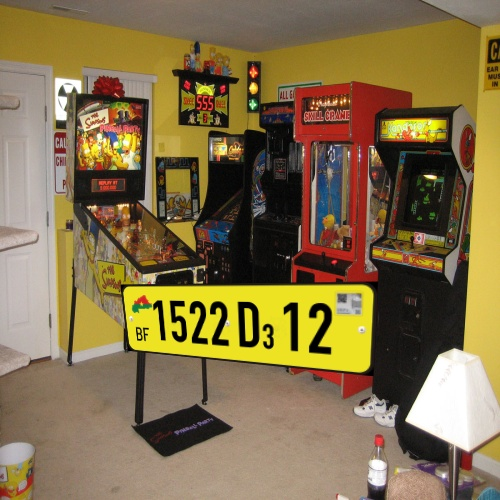plate: (109, 272, 387, 391)
